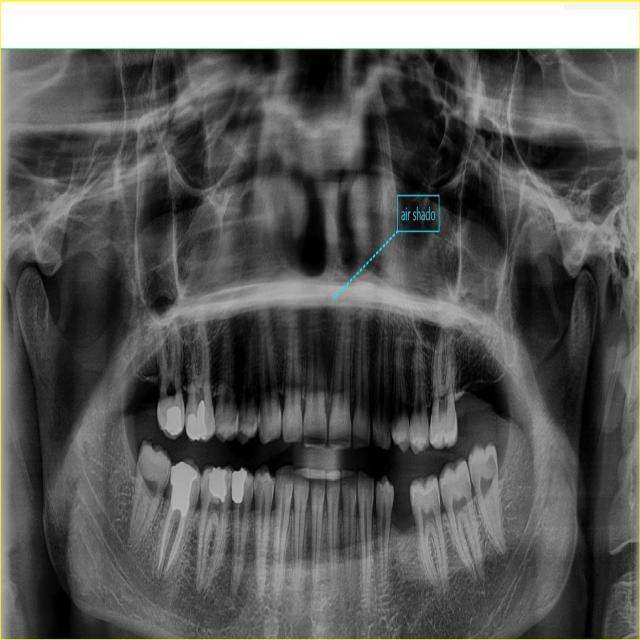74: (153, 503, 176, 570), (165, 514, 188, 575)
NucleOSS Implant: (160, 458, 200, 517), (183, 401, 208, 442), (208, 466, 228, 503), (230, 465, 248, 504), (164, 405, 181, 435)
